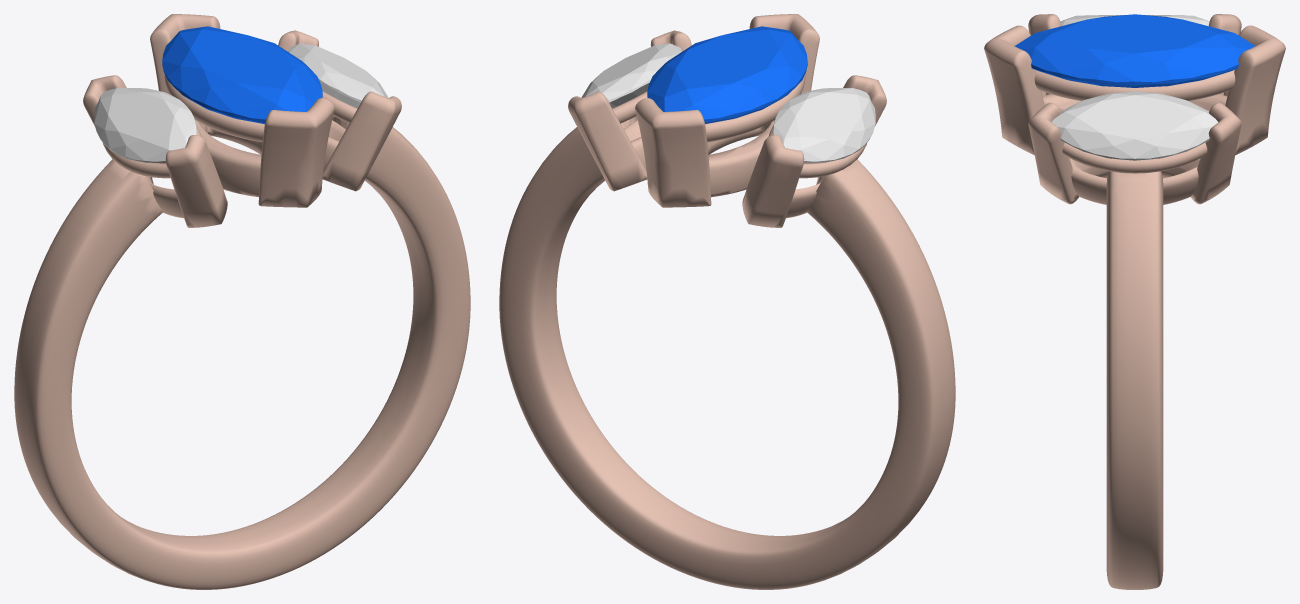
The model's file is bluesapphire-marquise-rosegold-protectededges2prongs-straightband-3stone.glb.
3 views of the same model, side by side, from view 1: azimuth 30°, elevation 25°; view 2: azimuth 150°, elevation 25°; view 3: azimuth 270°, elevation 25° (orthographic). The views are drawn at different scales.
Visible parts, largest first — view 1: metal, stone, side.001, side; view 2: metal, stone, side.001, side; view 3: metal, stone, side, side.001.
Boxes of the visible parts, x1,y1,x2,y2 form: metal: (14,14,470,589); stone: (162,26,322,123); side.001: (94,88,197,162); side: (288,43,388,108); metal: (499,14,955,589); stone: (647,26,807,123); side.001: (772,88,875,162); side: (581,43,681,108); metal: (984,14,1285,589); stone: (1014,14,1255,87); side: (1051,91,1218,160); side.001: (1060,15,1209,26).
Bounding box in the file's own units: 20.11 × 22.73 × 11.69.
